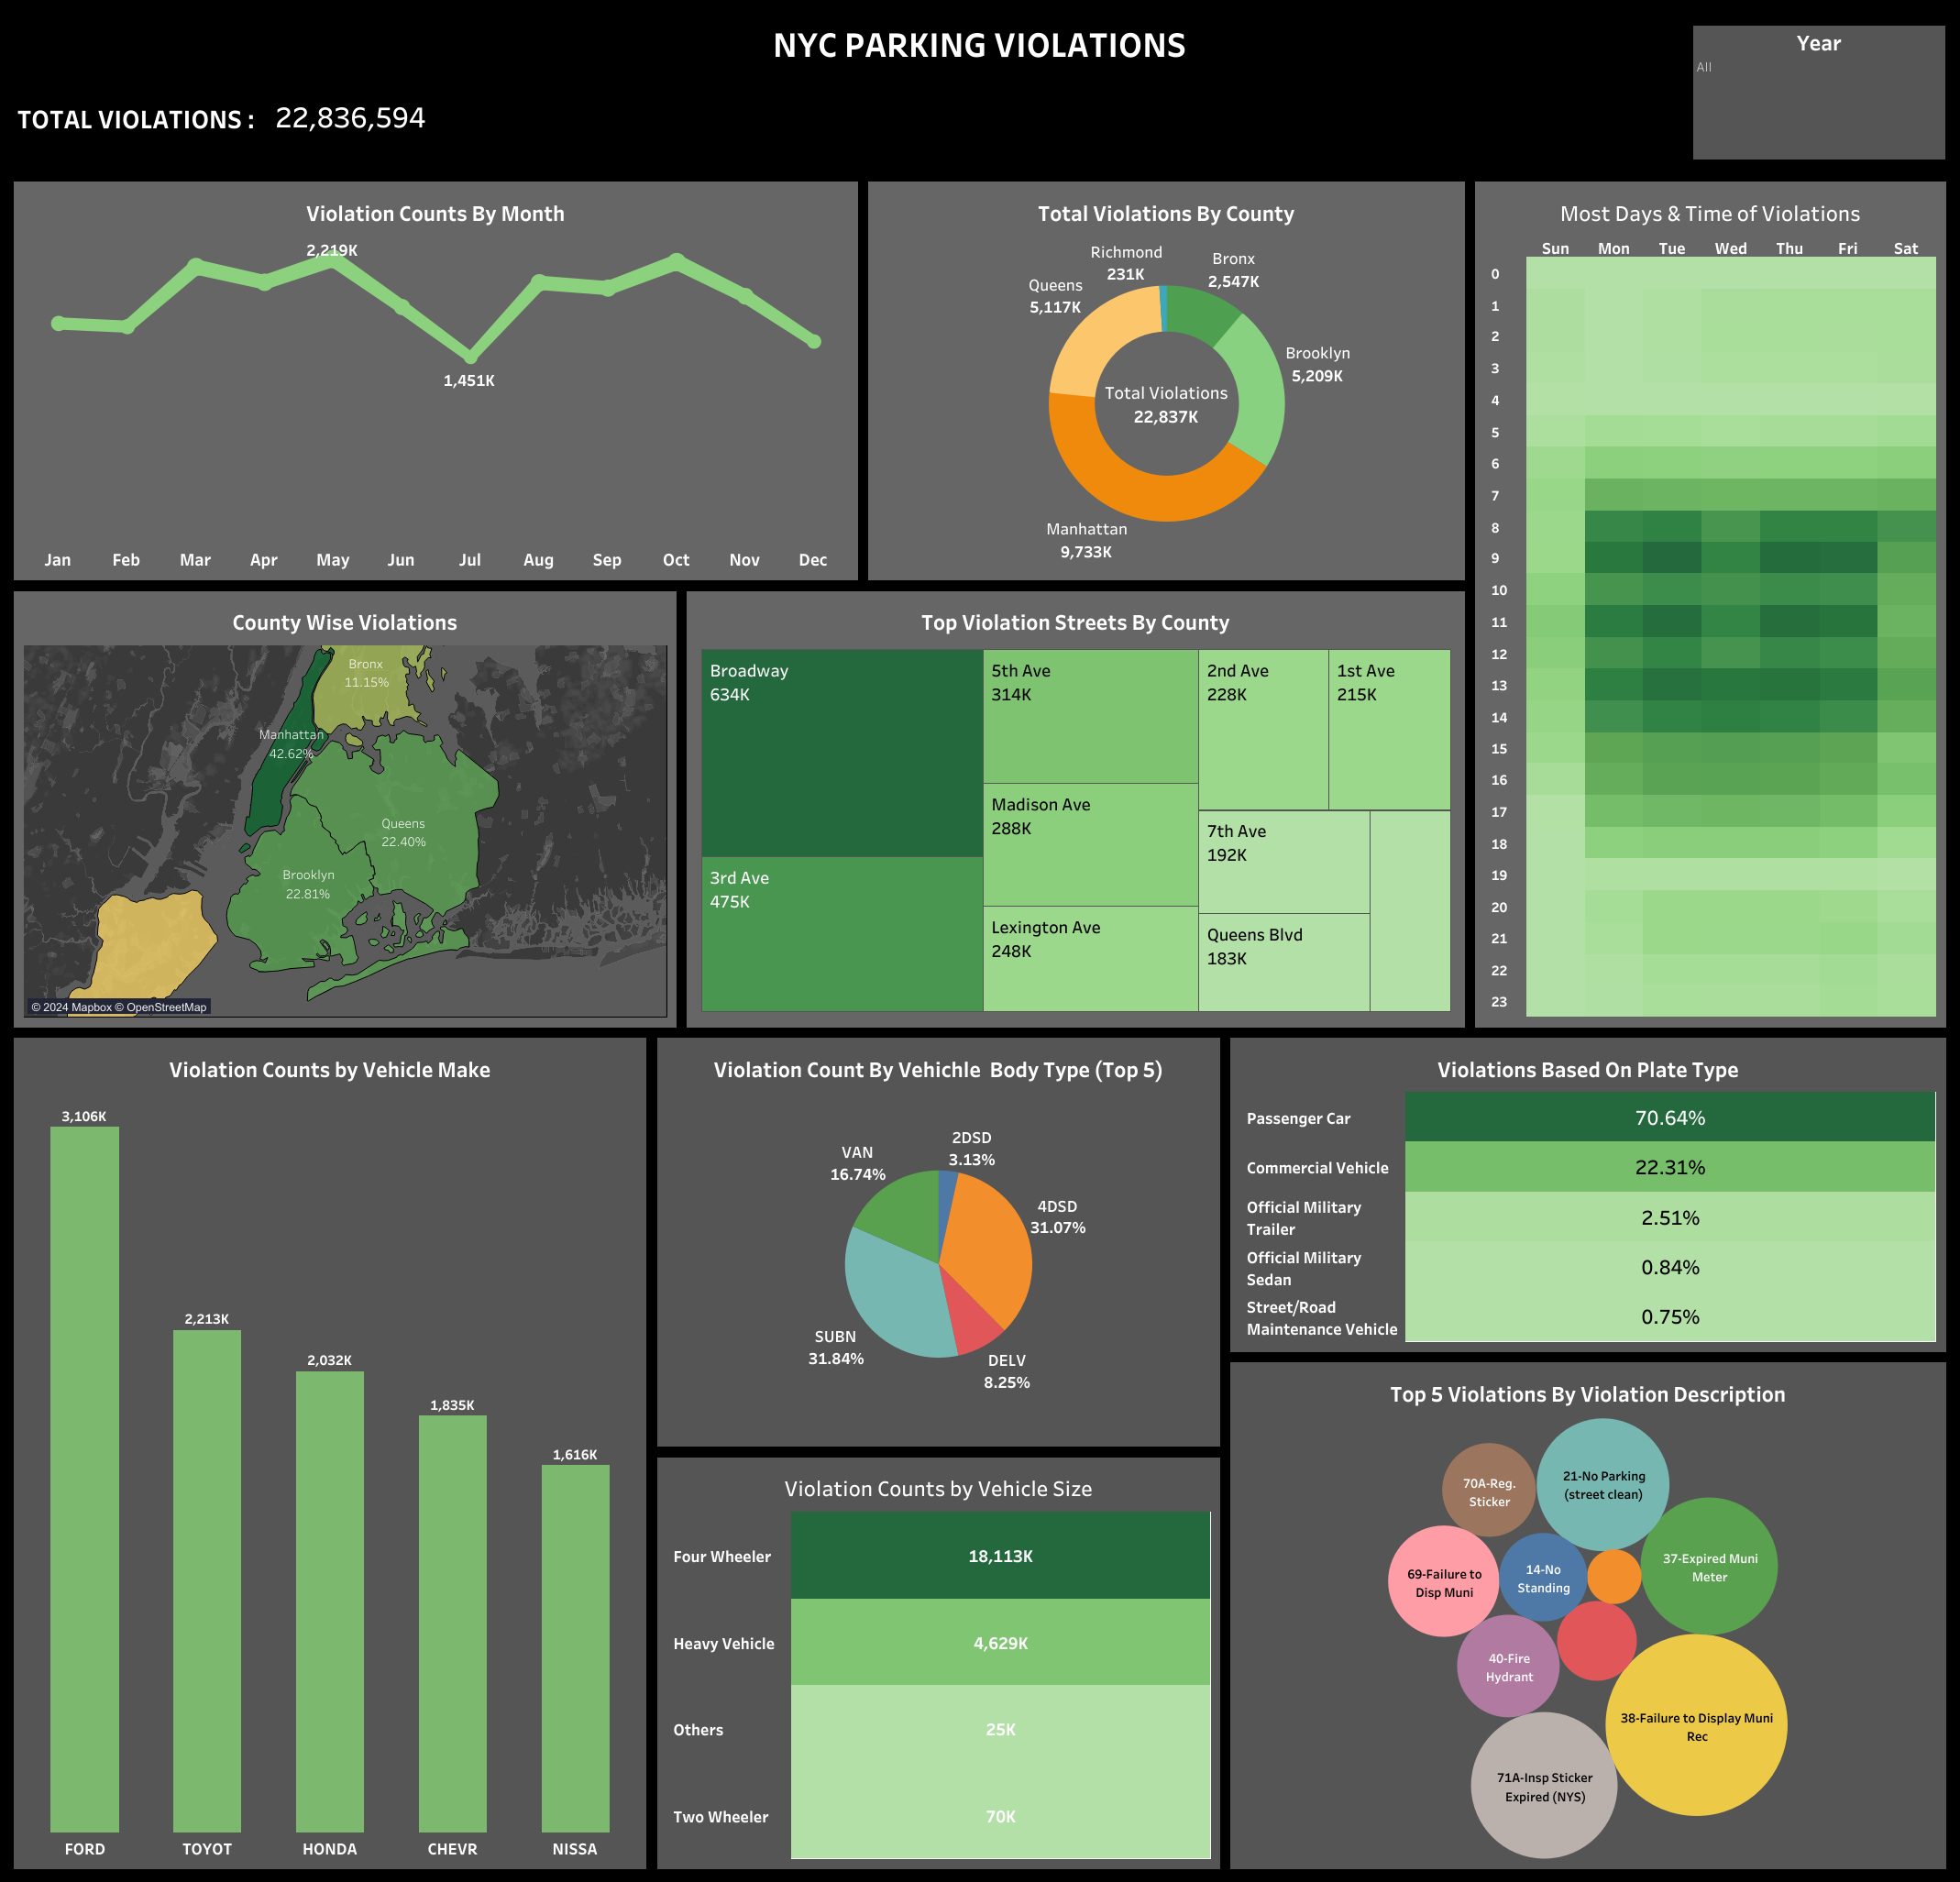

The dashboard page shown, as its layout file describes it:
{"tool":"tableau","page":{"name":"Dashboard 1","canvas":[1900,1825],"ordinal":0},"visuals":[{"type":"text","box":[8,8,1884,67]},{"type":"filter","title":"Violation Counts by Borough (bar chart)","param":"[federated.1mp2iah0oxa31l10bga2u1tnihdi].[yr:Issue Date:ok]","box":[1637,20,254,140]},{"type":"worksheet","title":"KPI","mark":"Automatic","box":[8,75,1884,96]},{"type":"worksheet","title":"Violation Counts By Month","mark":"Automatic","rows":["Summons Number"],"cols":["Issue Date"],"box":[8,171,828.9,397]},{"type":"worksheet","title":"Violation Counts by Borough (bar chart)","mark":"Pie","cols":["Calculation_346495746601148417","Calculation_346495746601148417"],"box":[836.9,171,588.5,397]},{"type":"worksheet","title":"Most Days & Time of Violations","mark":"Automatic","rows":["Violation Time"],"cols":["Calculation_1255941395806654473"],"box":[1425.4,171,466.6,830]},{"type":"worksheet","title":"County Wise Violations","mark":"Automatic","box":[8,568,653.5,433]},{"type":"worksheet","title":"Top Violation Streets By County","mark":"Automatic","box":[661.5,568,763.9,433]},{"type":"worksheet","title":"Violation Counts by Vehicle Make","mark":"Automatic","rows":["Violation Code"],"cols":["Vehicle Make"],"box":[8,1001,623.6,816]},{"type":"worksheet","title":"Violations Counts by Vehicle Body Type (top 5)","mark":"Pie","box":[631.6,1001,556.1,407]},{"type":"worksheet","title":"Violations Based On Plate Type","mark":"Square","rows":["Plate Type"],"box":[1187.6,1001,704.4,315]},{"type":"worksheet","title":"Top 5 Violations By Violation Description","mark":"Circle","box":[1187.6,1315.9,704.4,501.1]},{"type":"worksheet","title":"Violation Counts by Vehicle Size","mark":"Square","rows":["Vehicle Size"],"box":[631.6,1408,556.1,409]}]}

Visuals, with their boxes in screenshot pixels (x1, y1, x2, y2), scaled from the page's 1900x1825 canvas onto the 1960x1882 screenshot:
text: rect(8, 8, 1952, 77)
"Violation Counts by Borough (bar chart)" filter: rect(1689, 20, 1951, 165)
"KPI" worksheet: rect(8, 77, 1952, 176)
"Violation Counts By Month" worksheet: rect(8, 176, 864, 586)
"Violation Counts by Borough (bar chart)" worksheet (Pie marks): rect(864, 176, 1470, 586)
"Most Days & Time of Violations" worksheet: rect(1470, 176, 1952, 1032)
"County Wise Violations" worksheet: rect(8, 586, 682, 1032)
"Top Violation Streets By County" worksheet: rect(682, 586, 1470, 1032)
"Violation Counts by Vehicle Make" worksheet: rect(8, 1032, 652, 1874)
"Violations Counts by Vehicle Body Type (top 5)" worksheet (Pie marks): rect(652, 1032, 1225, 1452)
"Violations Based On Plate Type" worksheet (Square marks): rect(1225, 1032, 1952, 1357)
"Top 5 Violations By Violation Description" worksheet (Circle marks): rect(1225, 1357, 1952, 1874)
"Violation Counts by Vehicle Size" worksheet (Square marks): rect(652, 1452, 1225, 1874)
